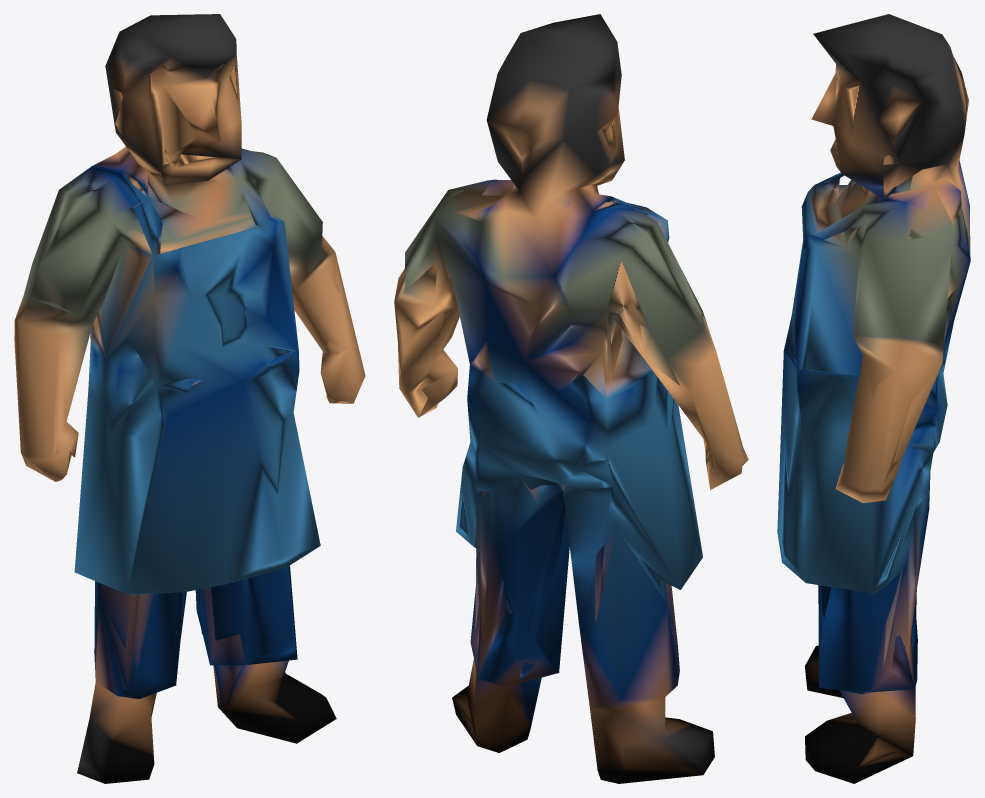
File: gen3d-fishmonger-lod1.glb
The picture shows the model from 3 angles, left to right: view 1: azimuth 30°, elevation 25°; view 2: azimuth 150°, elevation 25°; view 3: azimuth 270°, elevation 25°; orthographic projection. The views are drawn at different scales.
Visible parts, largest first — view 1: part_0; view 2: part_0; view 3: part_0.
Part boxes in pixels (<box>): part_0: <box>14,14,365,783</box>; part_0: <box>394,14,748,783</box>; part_0: <box>777,14,970,783</box>.
Size of the model in its own units: 0.4981 by 0.9994 by 0.2501.
